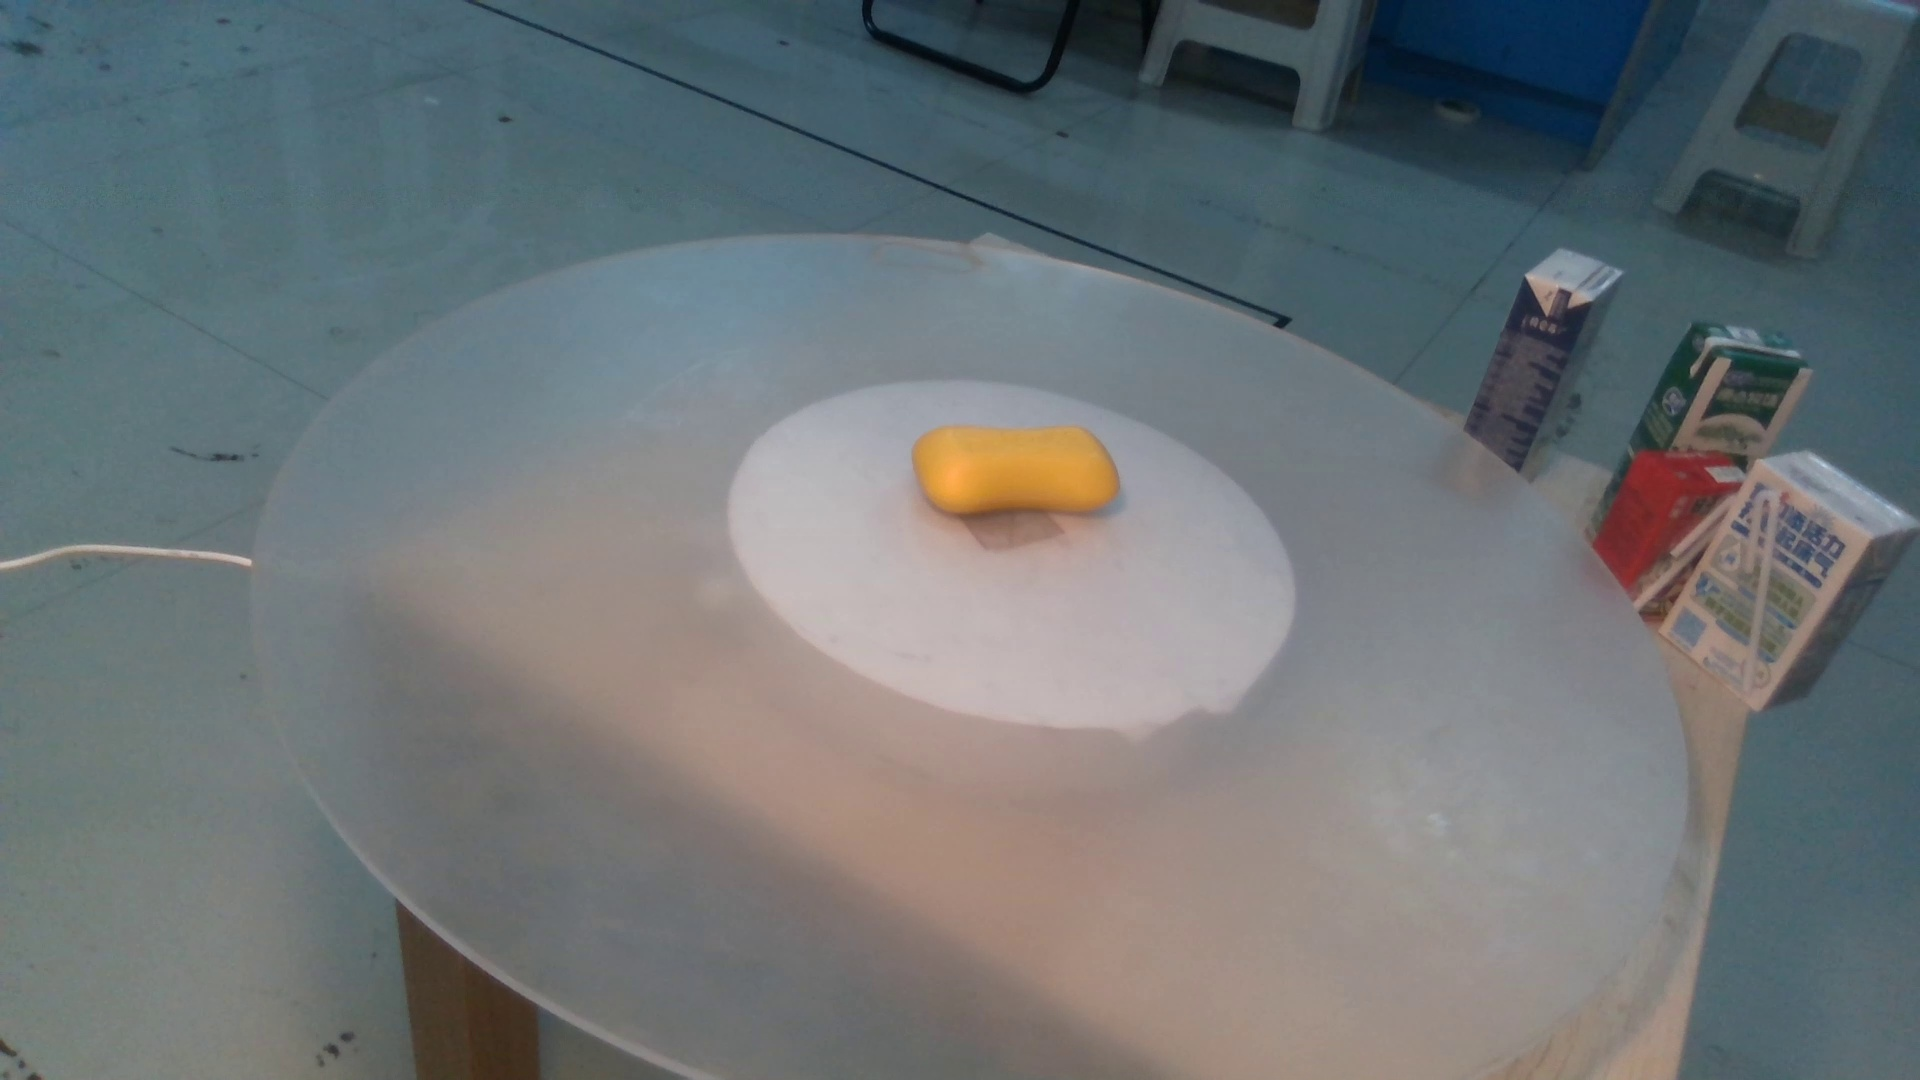CA003_1: (886, 378, 1163, 543)
